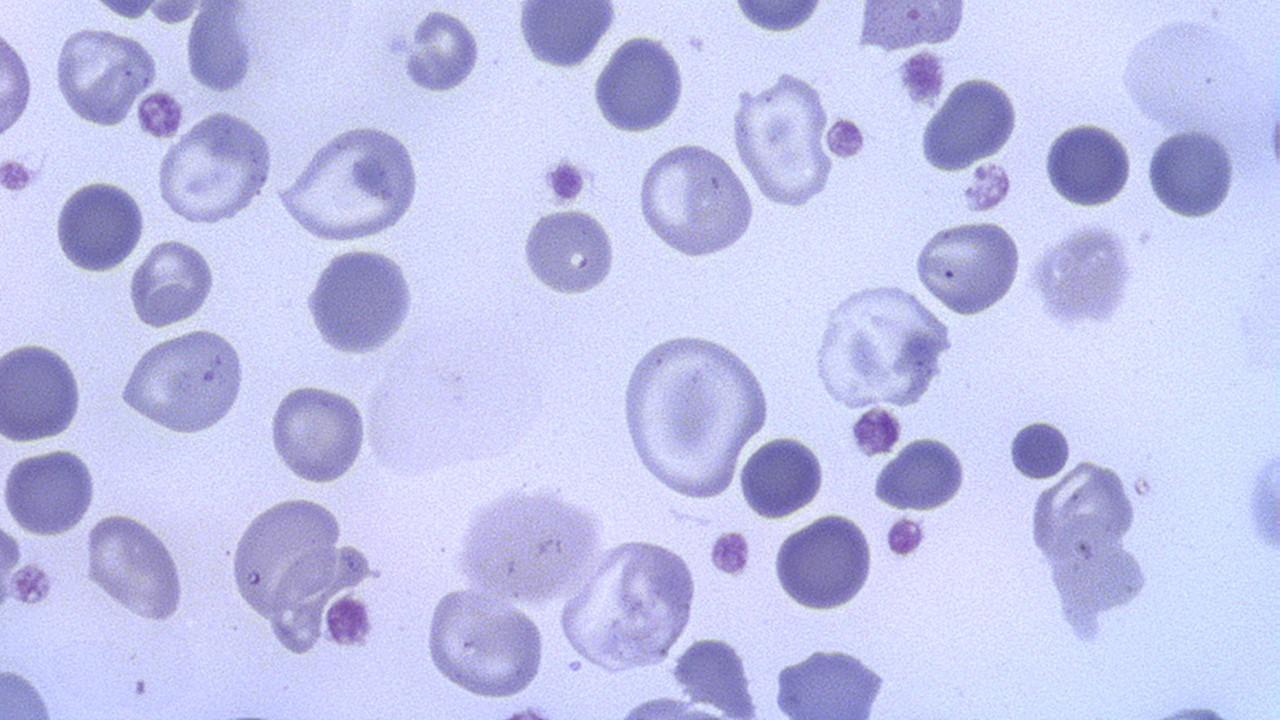Platelets: (897, 47, 948, 107), (322, 595, 379, 648), (706, 526, 753, 579)
RBC: (617, 326, 771, 503), (559, 532, 701, 676), (226, 492, 364, 636), (272, 117, 426, 244), (449, 480, 604, 605), (728, 66, 846, 210), (420, 584, 548, 702), (115, 326, 249, 438), (634, 139, 756, 260), (154, 107, 275, 228), (1115, 16, 1233, 133), (300, 244, 419, 360), (1030, 220, 1138, 331), (1026, 457, 1134, 566), (84, 510, 188, 622), (911, 218, 1025, 318), (51, 23, 154, 130), (266, 381, 370, 486), (917, 73, 1021, 177), (770, 513, 875, 614), (590, 30, 687, 138), (766, 643, 902, 718), (518, 204, 622, 299), (54, 173, 147, 276), (1143, 126, 1239, 221), (0, 446, 98, 539), (1, 336, 84, 445), (1042, 117, 1136, 211), (126, 236, 218, 329), (869, 433, 971, 514), (737, 432, 826, 521), (512, 1, 619, 74), (400, 6, 482, 96), (184, 3, 255, 97), (1006, 414, 1073, 482), (0, 21, 36, 144), (726, 1, 834, 36), (960, 159, 1016, 213), (135, 86, 185, 143), (850, 406, 904, 456)
WBC: (1028, 449, 1168, 653), (614, 322, 776, 496), (218, 492, 386, 635), (450, 478, 606, 606), (272, 118, 426, 243), (810, 282, 954, 414), (727, 65, 852, 207), (113, 316, 250, 444), (302, 238, 423, 364), (154, 106, 276, 230), (768, 509, 880, 613), (918, 73, 1026, 177), (516, 200, 624, 300), (591, 30, 691, 138), (1145, 124, 1243, 222), (774, 645, 902, 718), (870, 432, 972, 514), (514, 2, 620, 73), (181, 5, 258, 96), (851, 1, 975, 55), (1240, 430, 1280, 565), (724, 0, 833, 34)
